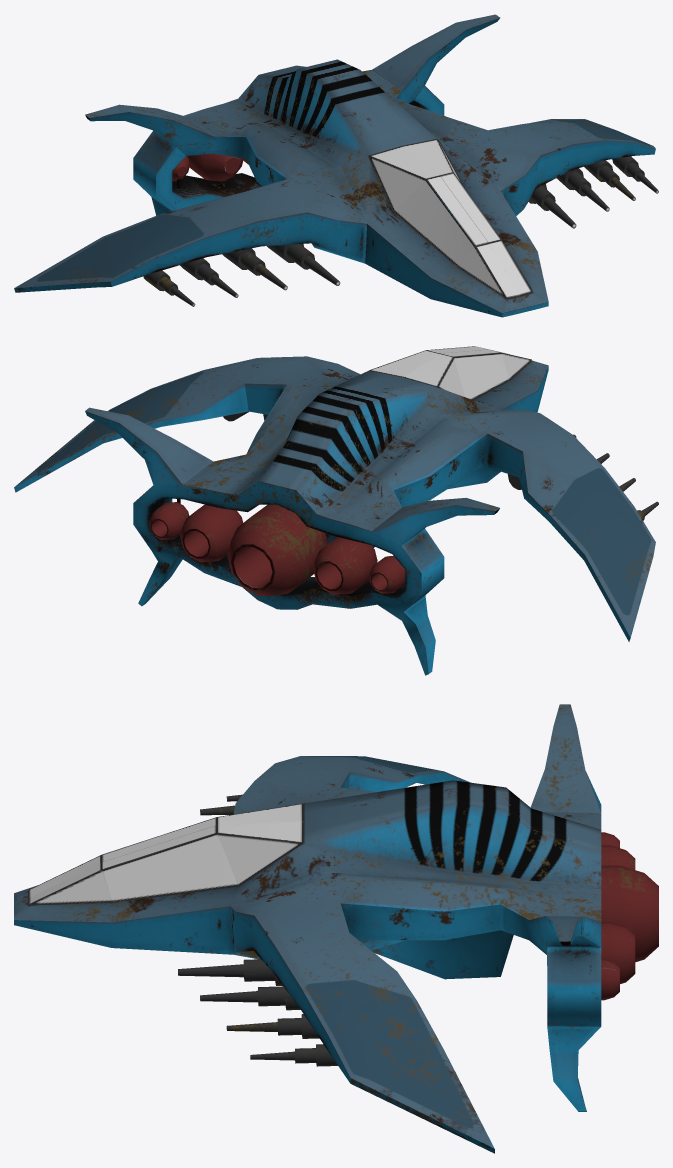
The model's file is Spaceship_3.obj.
3 renders of one model, top to bottom at view 1: azimuth 30°, elevation 25°; view 2: azimuth 150°, elevation 25°; view 3: azimuth 270°, elevation 25°, orthographic. The views are drawn at different scales.
Visible parts, largest first — view 1: ship_low ship_low, ship_low window_low, ship_low boosters_low booster_04_low, ship_low R_turrets_low turrets_low R_turret_01_low, ship_low R_turret_02_low R_turrets_low turrets_low, ship_low turrets_low L_turrets_low L_turret_02_low, ship_low R_turrets_low turrets_low R_turret_03_low, ship_low turrets_low L_turrets_low L_turret_03_low, ship_low turrets_low L_turret_01_low L_turrets_low, ship_low R_turrets_low turrets_low R_turret_04_low, ship_low turrets_low L_turrets_low L_turret_04_low; view 2: ship_low ship_low, ship_low booster_01_low boosters_low, ship_low window_low, ship_low boosters_low booster_04_low, ship_low boosters_low booster_02_low, ship_low boosters_low booster_03_low, ship_low boosters_low booster_05_low; view 3: ship_low ship_low, ship_low window_low, ship_low booster_01_low boosters_low, ship_low boosters_low booster_02_low, ship_low turrets_low L_turret_01_low L_turrets_low, ship_low turrets_low L_turrets_low L_turret_02_low, ship_low turrets_low L_turrets_low L_turret_03_low, ship_low turrets_low L_turrets_low L_turret_04_low, ship_low boosters_low booster_03_low.
Part boxes in pixels (box(x1,y1,x2,y2)): ship_low ship_low: box(14, 14, 655, 317); ship_low window_low: box(369, 139, 531, 298); ship_low boosters_low booster_04_low: box(187, 153, 243, 181); ship_low R_turrets_low turrets_low R_turret_01_low: box(267, 244, 340, 285); ship_low R_turret_02_low R_turrets_low turrets_low: box(222, 248, 287, 290); ship_low turrets_low L_turrets_low L_turret_02_low: box(556, 168, 609, 211); ship_low R_turrets_low turrets_low R_turret_03_low: box(180, 258, 238, 297); ship_low turrets_low L_turrets_low L_turret_03_low: box(584, 160, 635, 200); ship_low turrets_low L_turret_01_low L_turrets_low: box(528, 184, 576, 228); ship_low R_turrets_low turrets_low R_turret_04_low: box(143, 270, 195, 306); ship_low turrets_low L_turrets_low L_turret_04_low: box(612, 156, 658, 193); ship_low ship_low: box(14, 356, 655, 675); ship_low booster_01_low boosters_low: box(227, 504, 327, 595); ship_low window_low: box(369, 346, 531, 399); ship_low boosters_low booster_04_low: box(313, 537, 377, 594); ship_low boosters_low booster_02_low: box(180, 504, 243, 562); ship_low boosters_low booster_03_low: box(149, 502, 189, 539); ship_low boosters_low booster_05_low: box(369, 556, 405, 593); ship_low ship_low: box(14, 704, 601, 1153); ship_low window_low: box(28, 803, 303, 904); ship_low booster_01_low boosters_low: box(601, 865, 658, 962); ship_low boosters_low booster_02_low: box(601, 922, 635, 983); ship_low turrets_low L_turret_01_low L_turrets_low: box(178, 959, 282, 985); ship_low turrets_low L_turrets_low L_turret_02_low: box(200, 986, 300, 1010); ship_low turrets_low L_turrets_low L_turret_03_low: box(226, 1014, 319, 1038); ship_low turrets_low L_turrets_low L_turret_04_low: box(250, 1044, 337, 1066); ship_low boosters_low booster_03_low: box(601, 959, 619, 1000).
Bounding box in the file's own units: 12.9 × 4.02 × 9.88.
